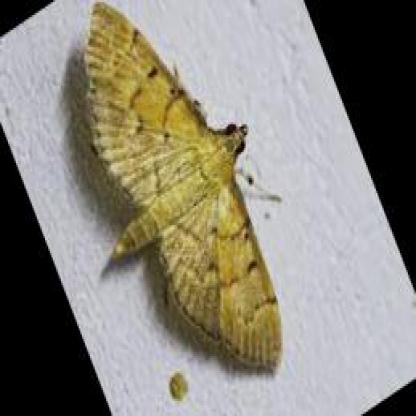Leaf Webber: (79, 7, 280, 373)
